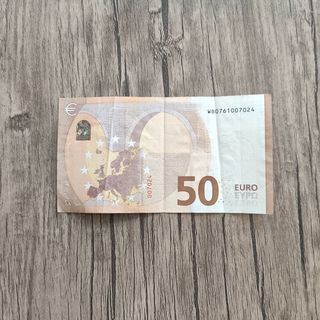50EUROBack: (55, 92, 274, 216)
